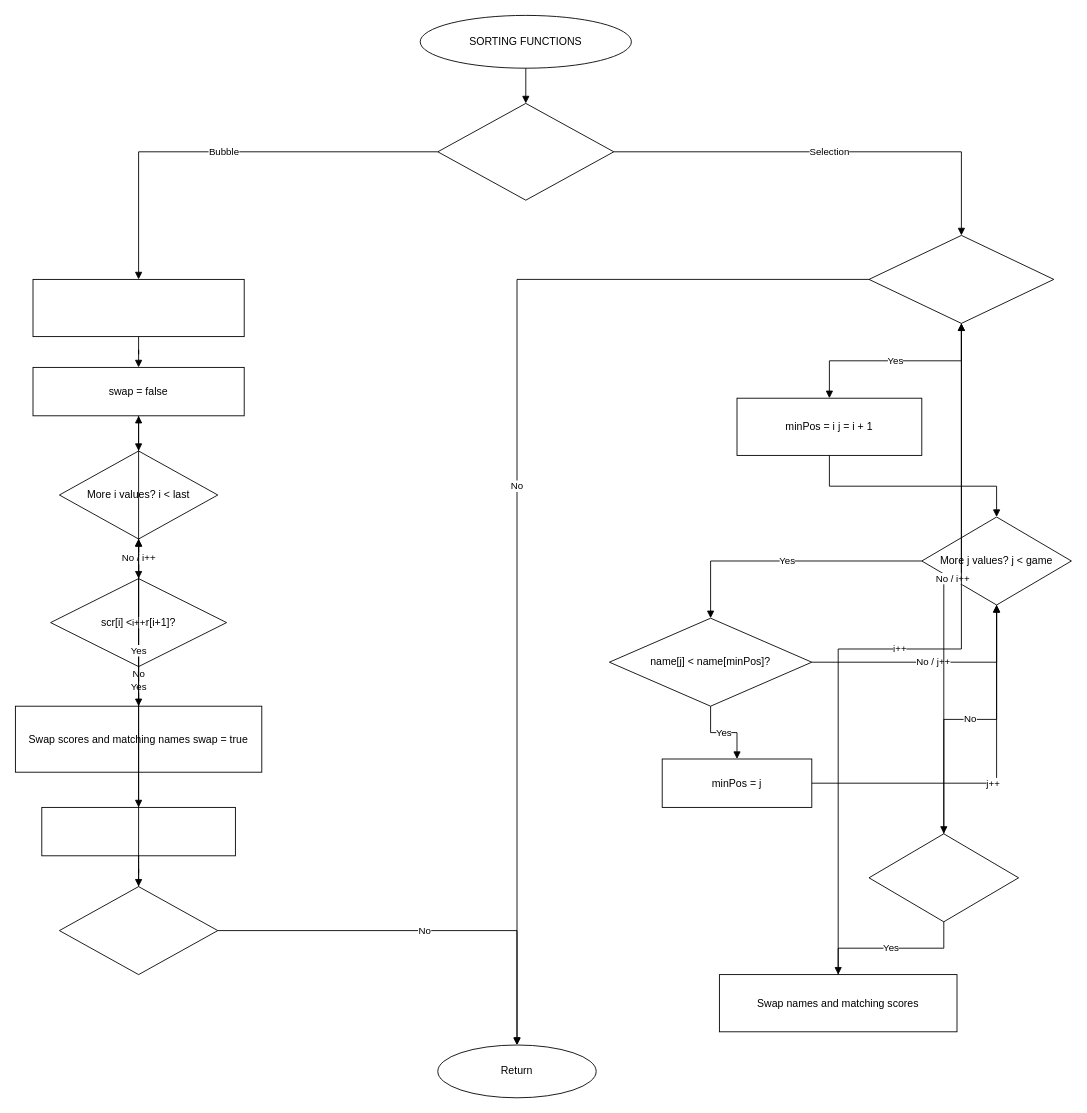
Some shapes in this 1087 by 1113 pixel diagram are drawn without their labels. The box of each missing label's shape, as (x1, y1, x2, y2) in pixels:
Bubble or Selection?: (437, 103, 614, 200)
bubSor(): last = game - 1: (32, 279, 244, 337)
last--: (41, 807, 235, 856)
minPos != i?: (868, 833, 1019, 922)
selSor(): More i values? i < game-1: (868, 235, 1054, 323)
swap == true?: (59, 886, 218, 975)
